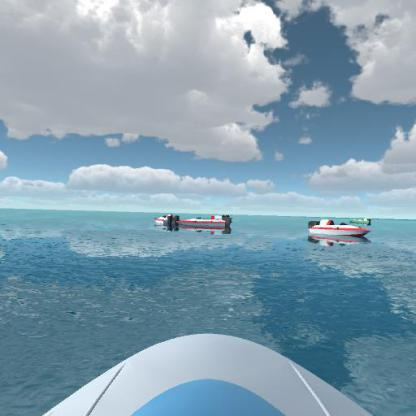usv0: (348, 216, 374, 225)
usv3: (307, 214, 377, 243), (178, 212, 236, 234), (152, 209, 182, 230)
